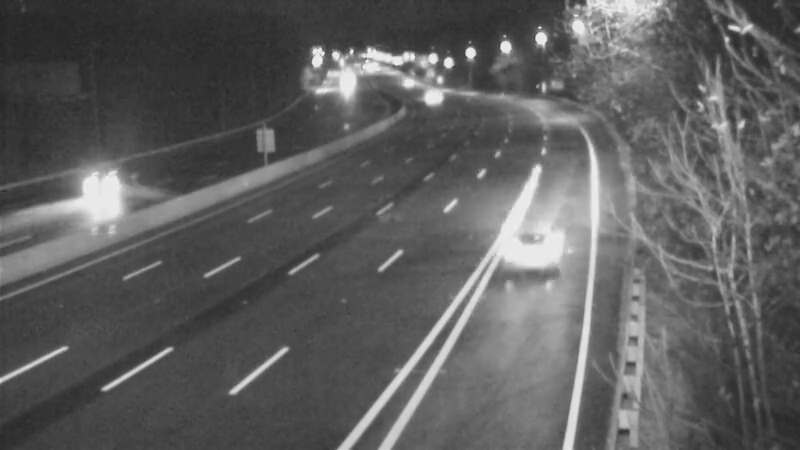vehicle: (501, 195, 581, 275), (60, 148, 140, 228), (378, 54, 428, 104), (401, 72, 451, 122)
